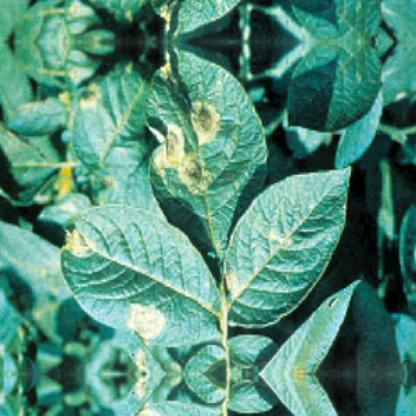Early-Blight: (138, 93, 270, 201), (122, 297, 176, 373), (48, 66, 112, 116), (54, 220, 108, 264), (121, 374, 176, 416), (258, 224, 310, 256), (212, 266, 250, 300), (48, 0, 112, 16)
